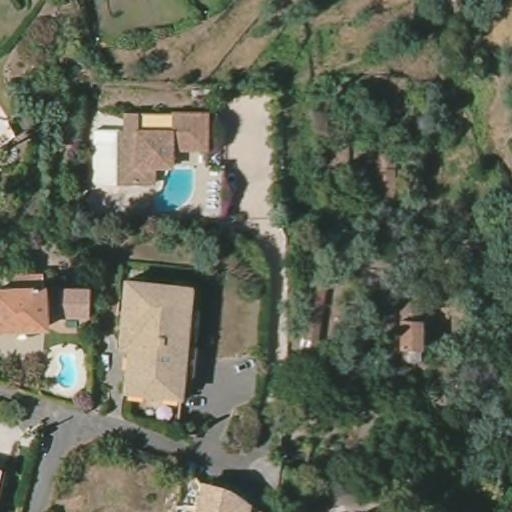pool: (147, 164, 197, 217), (50, 350, 84, 390)
